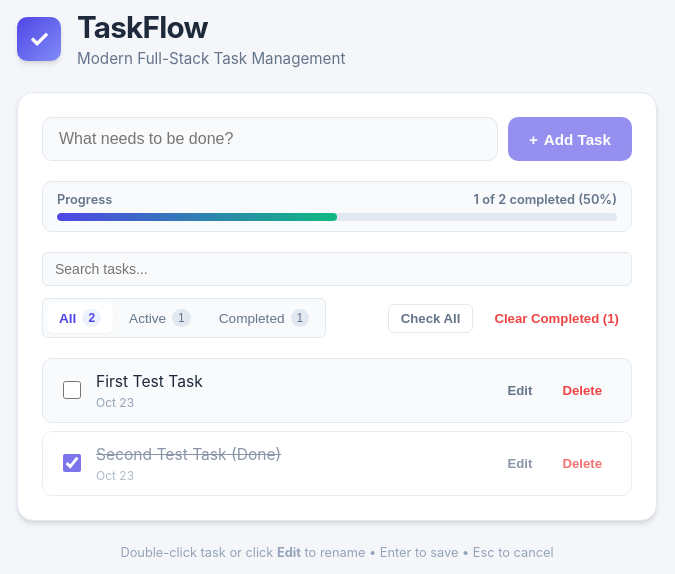
Test: TaskFlow App Component › filters active and completed todos
Expected: the text "First Test Task" is shown, x1=96 y1=372 x2=203 y2=391
Expected: the text "Second Test Task (Done)" is shown, x1=96 y1=445 x2=281 y2=464
# Click Active filter
Click the tab "Active 1": {"x": 160, "y": 318} x1=117 y1=303 x2=203 y2=333
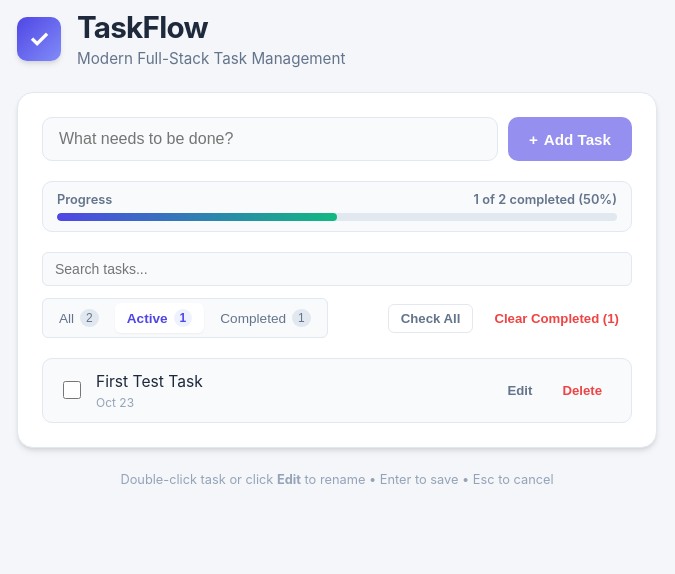
Expected: the text "First Test Task" is shown, x1=96 y1=372 x2=203 y2=391
Expected: the text "Second Test Task (Done)" is gone
# Click Completed filter
Click the tab "Completed 1": {"x": 266, "y": 318} x1=208 y1=303 x2=323 y2=333
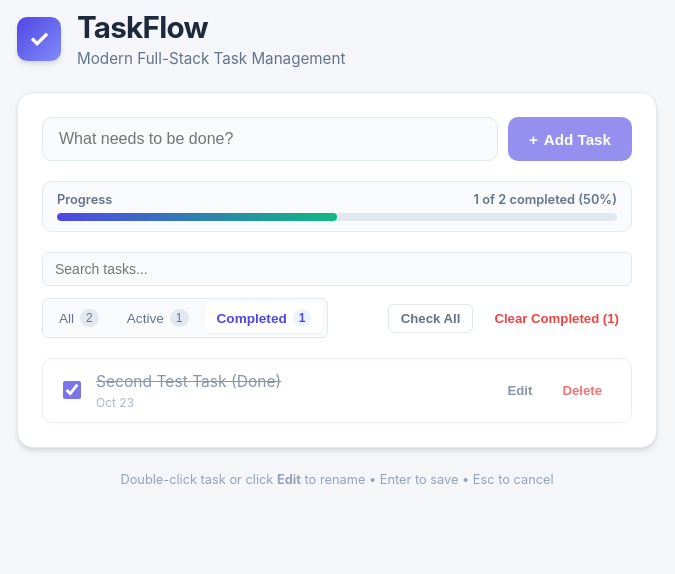
Expected: the text "First Test Task" is gone
Expected: the text "Second Test Task (Done)" is shown, x1=96 y1=372 x2=281 y2=391
